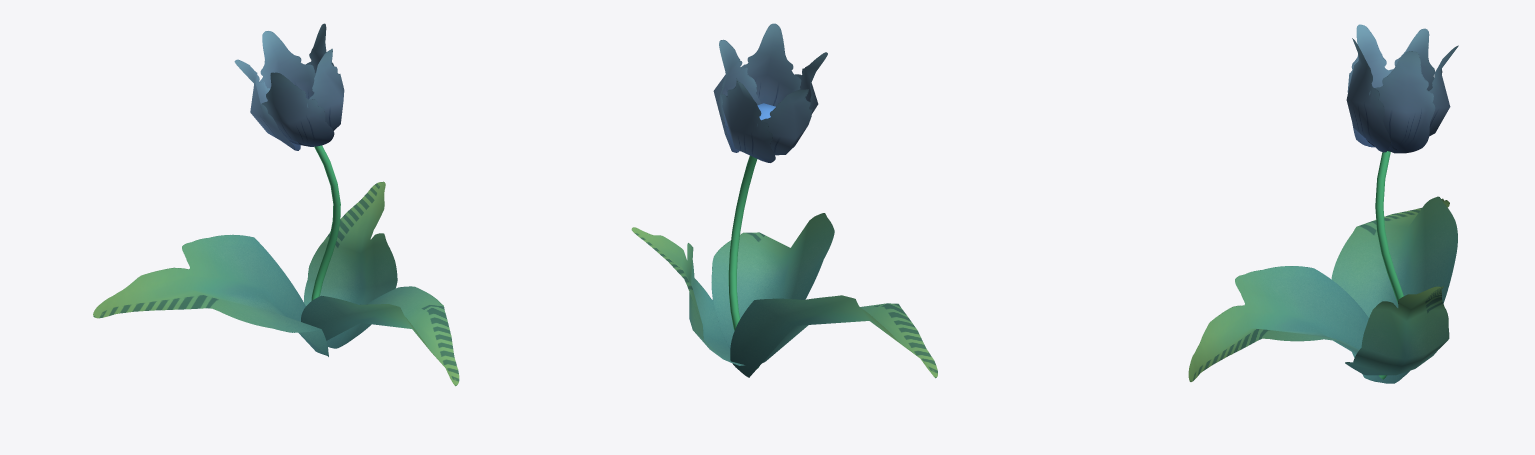
The model's file is Tulipe.fbx.
3 views of the same model, side by side, from view 1: azimuth 30°, elevation 25°; view 2: azimuth 150°, elevation 25°; view 3: azimuth 270°, elevation 25° (orthographic). The views are drawn at different scales.
Visible parts, largest first — view 1: Feuillefleur.002, Petalebleu, Feuillefleur, Feuillefleur.001, BézierCurve; view 2: Petalebleu, Feuillefleur.001, Feuillefleur.002, Feuillefleur, BézierCurve; view 3: Feuillefleur.001, Petalebleu, Feuillefleur.002, Feuillefleur, BézierCurve.
Part boxes in pixels (bbox=[...]): Feuillefleur.002: bbox=[93, 234, 328, 356]; Petalebleu: bbox=[234, 23, 344, 150]; Feuillefleur: bbox=[304, 181, 397, 348]; Feuillefleur.001: bbox=[301, 286, 459, 386]; BézierCurve: bbox=[311, 145, 340, 350]; Petalebleu: bbox=[713, 23, 827, 162]; Feuillefleur.001: bbox=[711, 213, 834, 348]; Feuillefleur.002: bbox=[730, 295, 937, 378]; Feuillefleur: bbox=[631, 227, 744, 365]; BézierCurve: bbox=[728, 155, 758, 368]; Feuillefleur.001: bbox=[1188, 266, 1368, 381]; Petalebleu: bbox=[1346, 24, 1458, 153]; Feuillefleur.002: bbox=[1331, 196, 1457, 383]; Feuillefleur: bbox=[1345, 286, 1449, 375]; BézierCurve: bbox=[1375, 151, 1403, 379].
Bounding box in the file's own units: 63.77 × 53.56 × 57.28.
